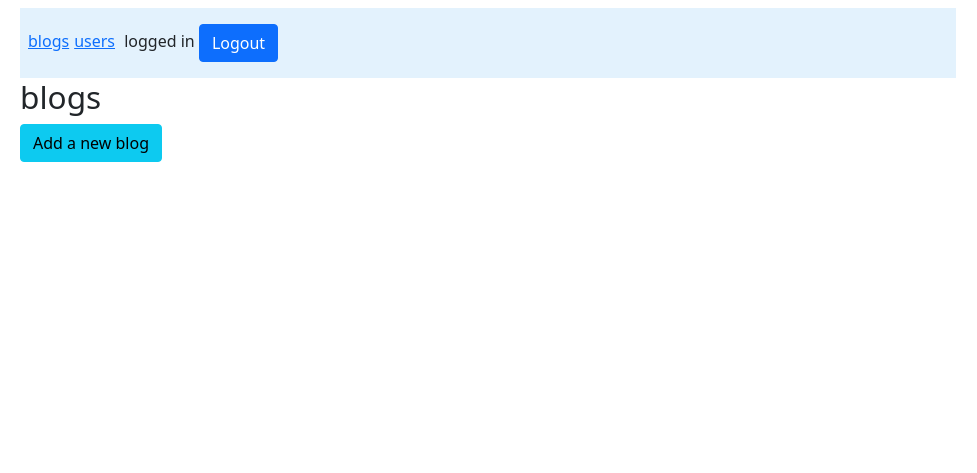
it: Login and add Blog › Add Blog Post
The image size is (977, 473).
Click the button "Add a new blog" at (91, 143), box [20,124,162,162]
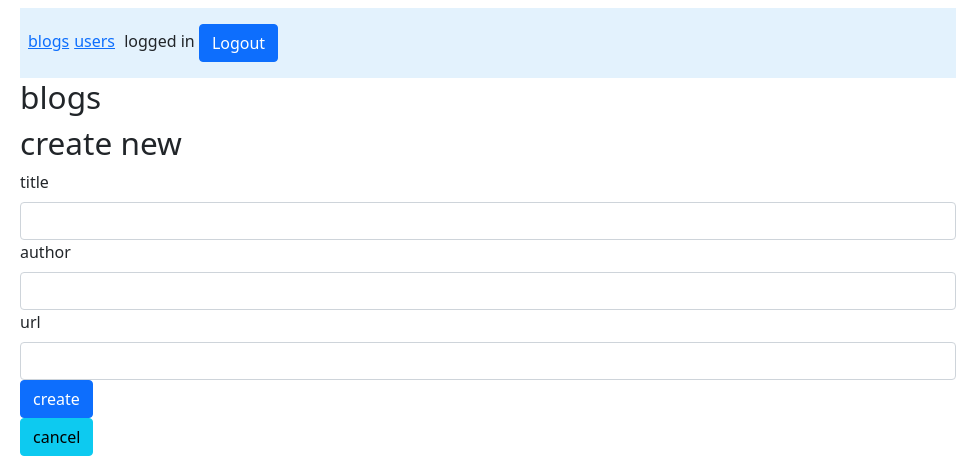
Type "Added a new blog via cypressnew blog to add" into the field with id "title" at (488, 221), box [20,202,956,240]
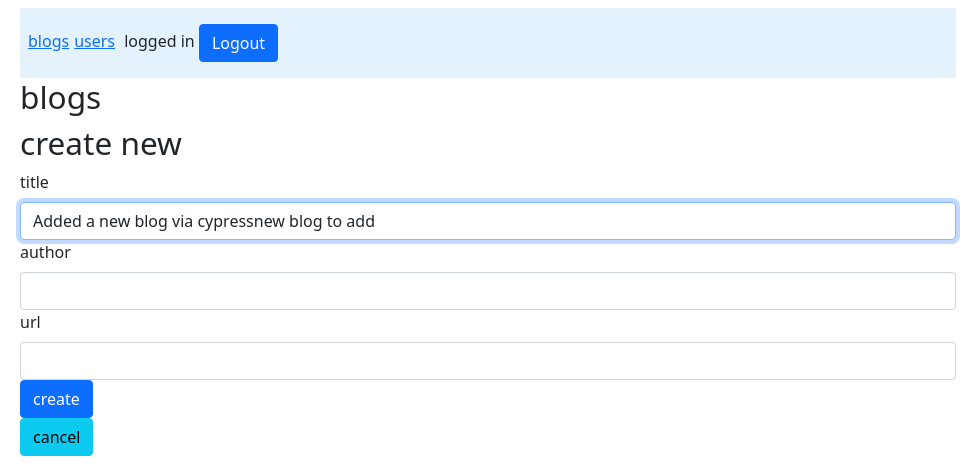
Type "costeira" into the field with id "author" at (488, 291), box [20,272,956,310]
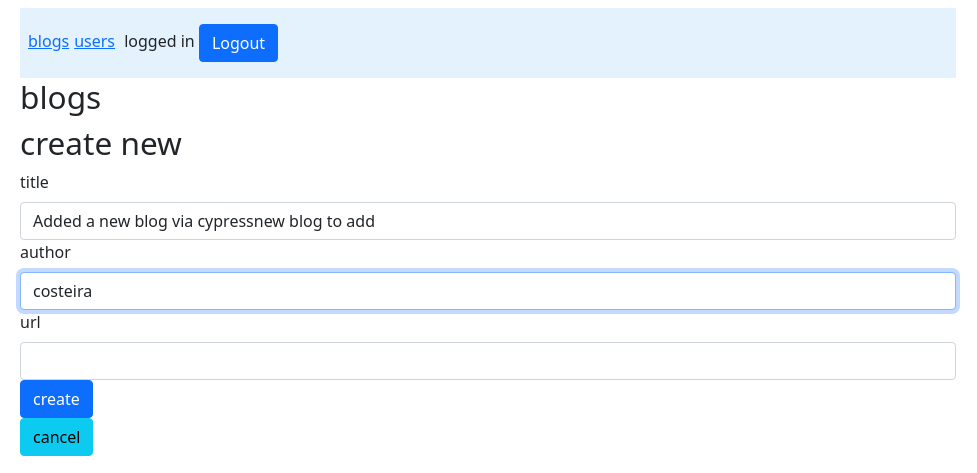
Type "https://www.google.com" into the field with id "url" at (488, 361), box [20,342,956,380]
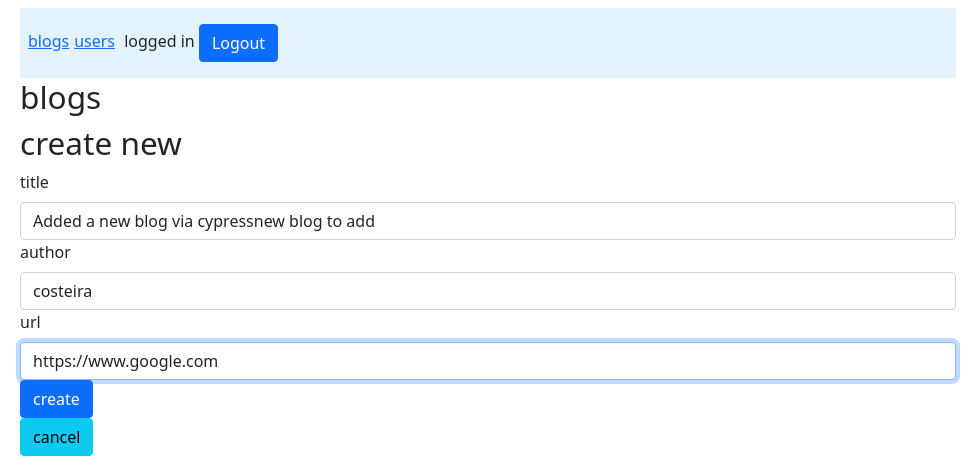
Click the button with id "createBlog" at (57, 399), box [20,380,93,418]
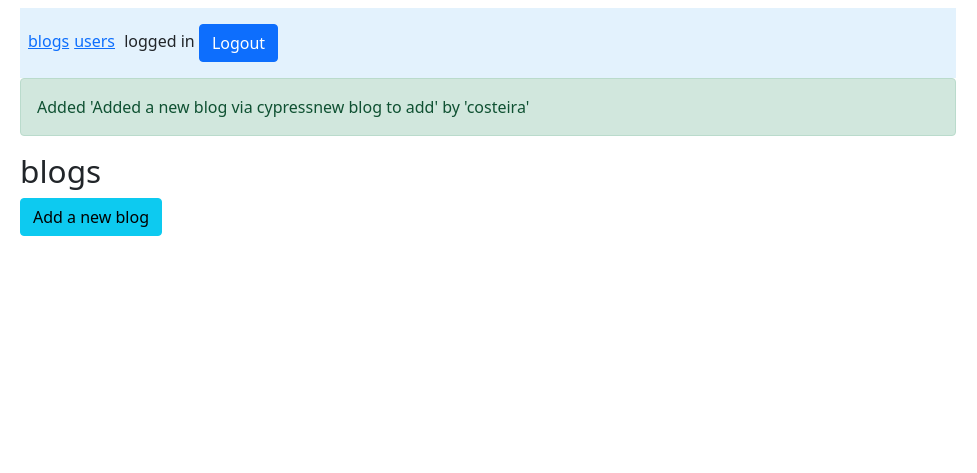
Expected: the text "Added a new blog via cypress" is shown, [37,96,529,118]
